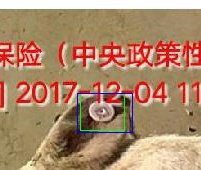text: (80, 93, 124, 130)
